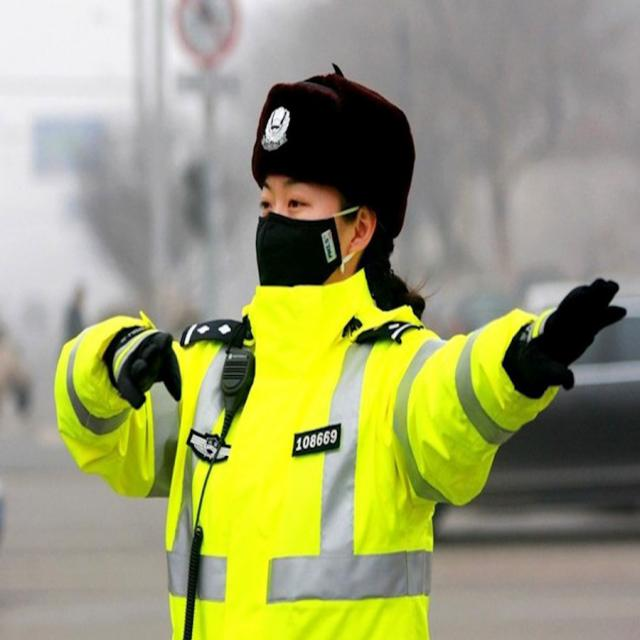mask: (252, 140, 342, 296)
